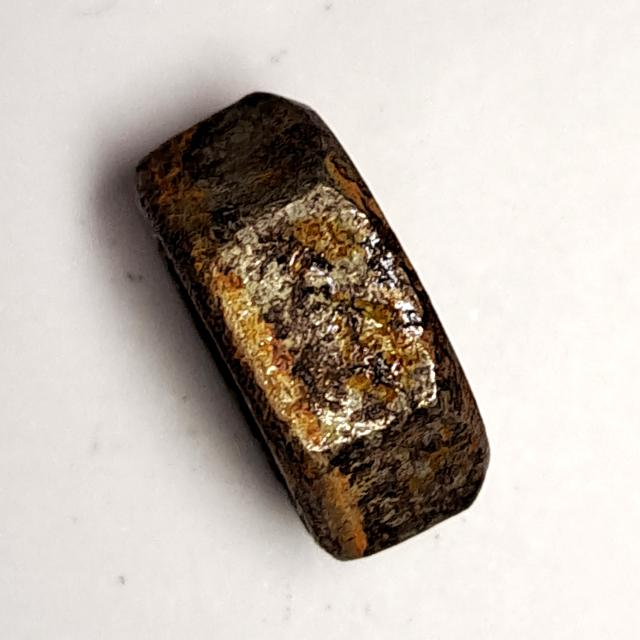Side_Rust: (121, 72, 508, 576)
